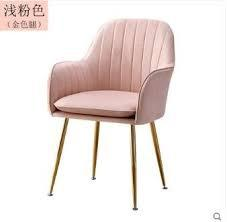chair: (39, 26, 191, 190)
